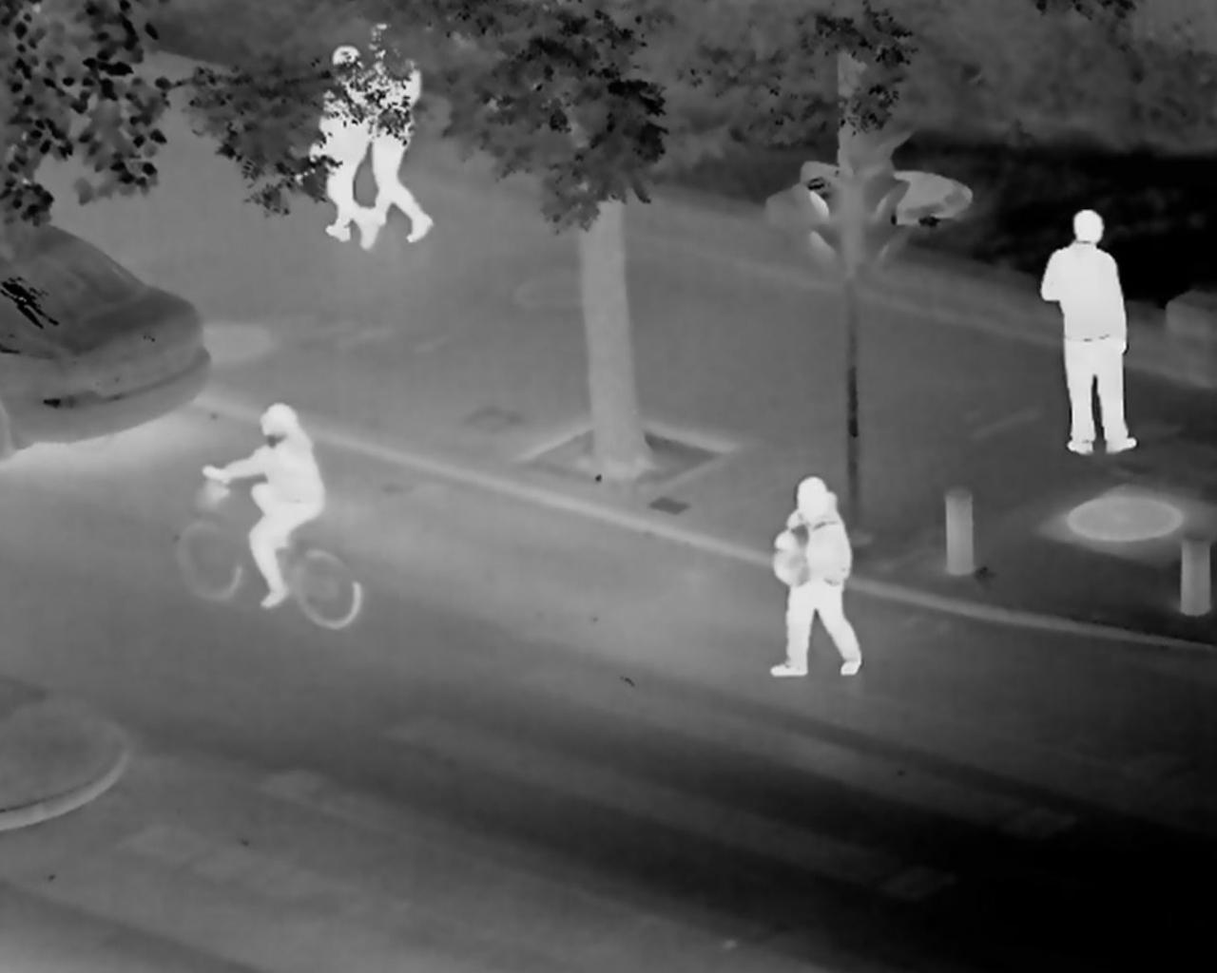person: (204, 386, 340, 625), (1035, 200, 1143, 462), (756, 467, 869, 684), (375, 23, 435, 252), (324, 48, 376, 241)
